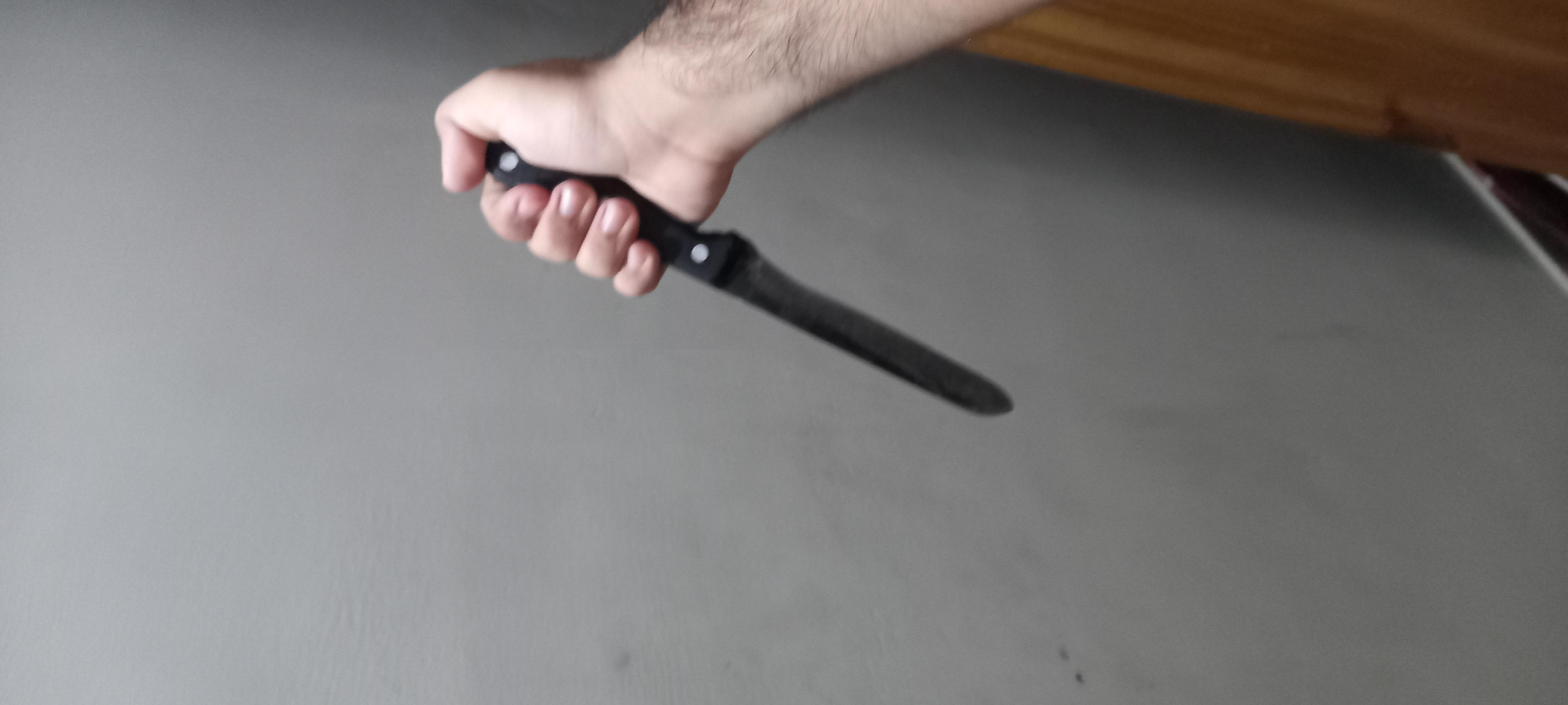knives: (605, 193, 1294, 455)
